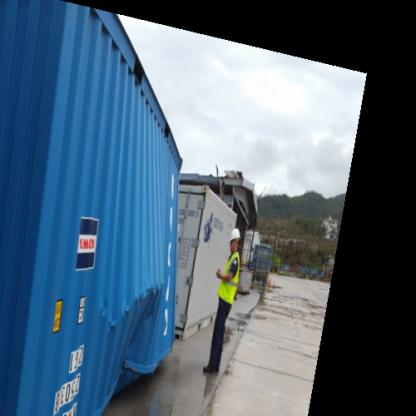Damage: (86, 276, 170, 406)
